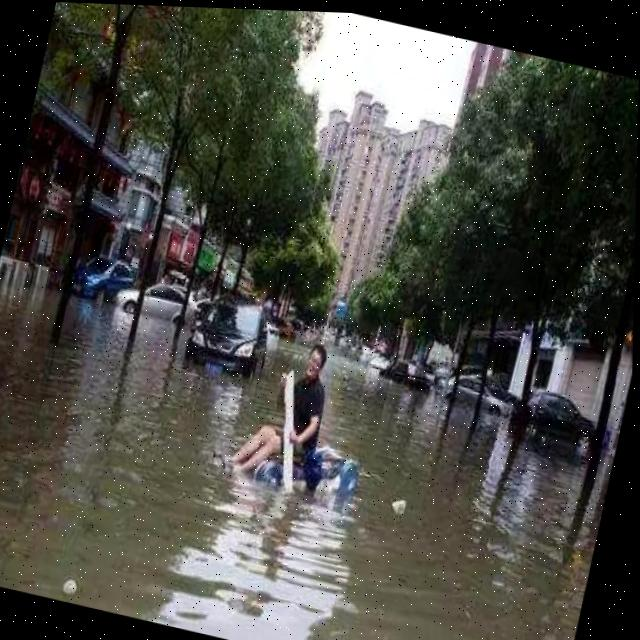civilian: (213, 316, 352, 505)
